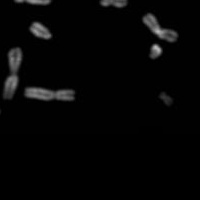chromosome: (3, 46, 23, 99), (142, 12, 178, 41), (25, 86, 75, 103), (29, 20, 52, 42), (100, 0, 127, 11), (147, 44, 162, 62), (13, 0, 50, 5), (0, 104, 1, 128)
